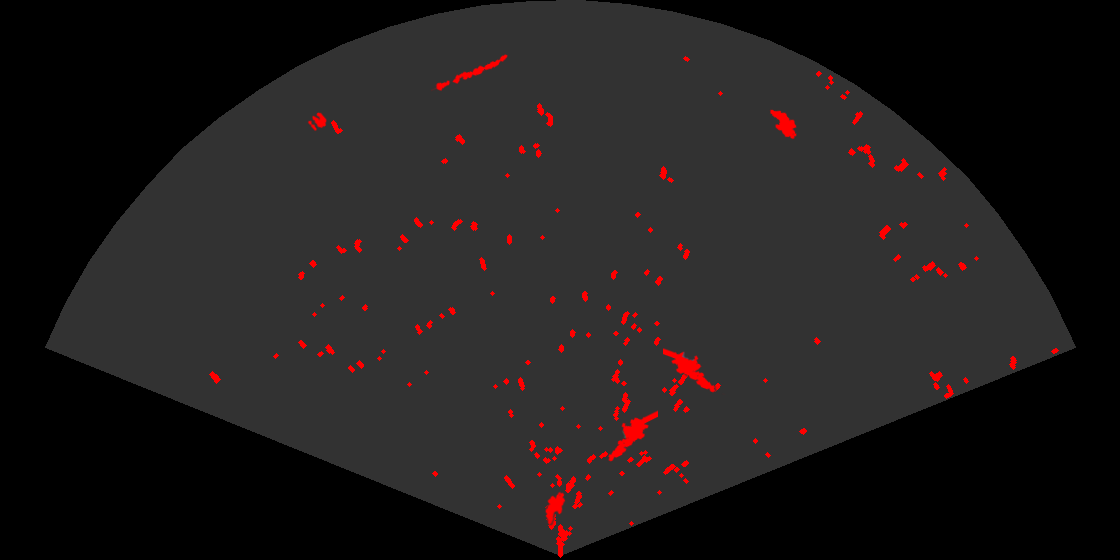AUV: (768, 108, 798, 141), (544, 490, 567, 526)
ball: (306, 111, 328, 133)
chain: (431, 53, 510, 93)
frogman: (663, 347, 726, 395), (606, 409, 658, 463)
